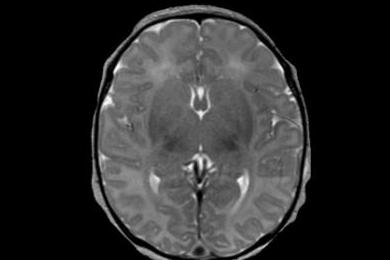Normal_Brain: (67, 1, 390, 260)
